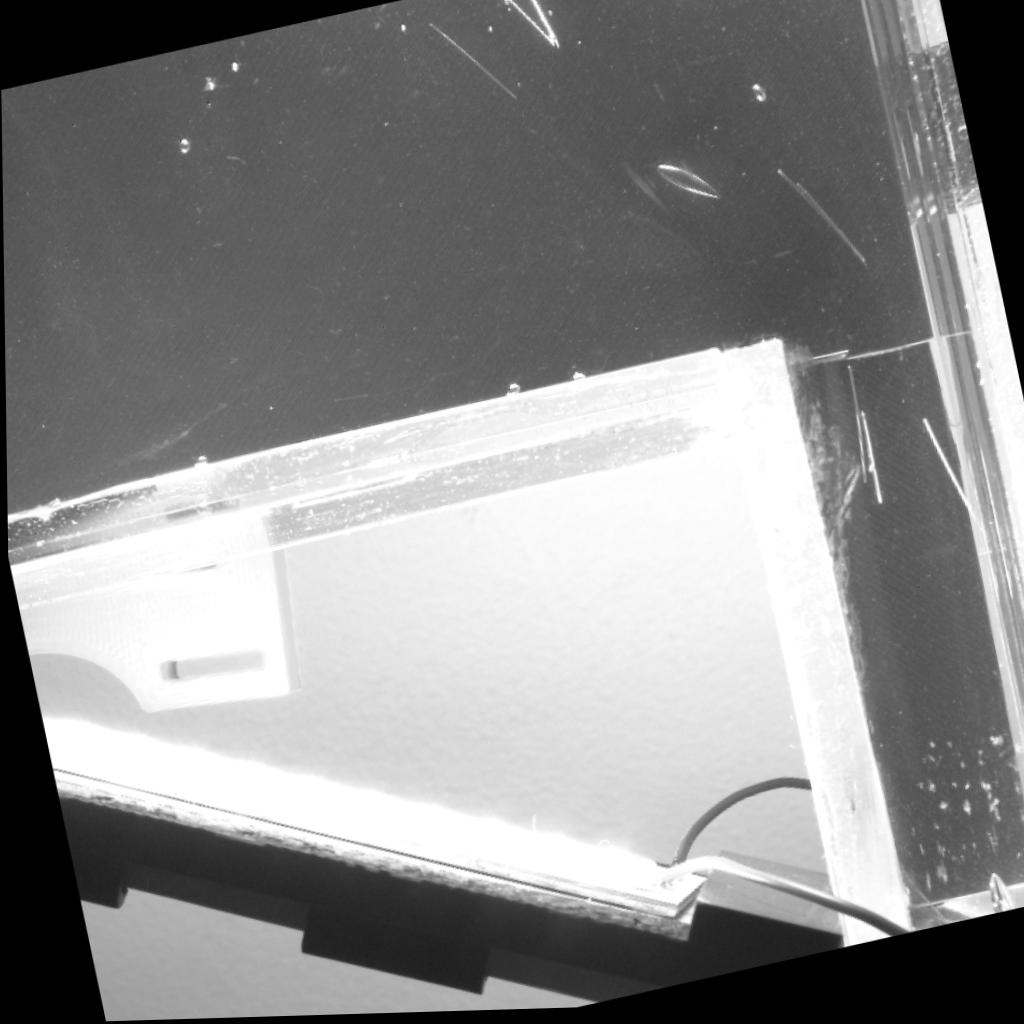Fiber: (771, 171, 862, 270), (424, 21, 519, 106), (917, 422, 985, 537), (839, 366, 869, 490), (498, 0, 561, 58), (856, 409, 886, 511), (529, 0, 564, 56)
